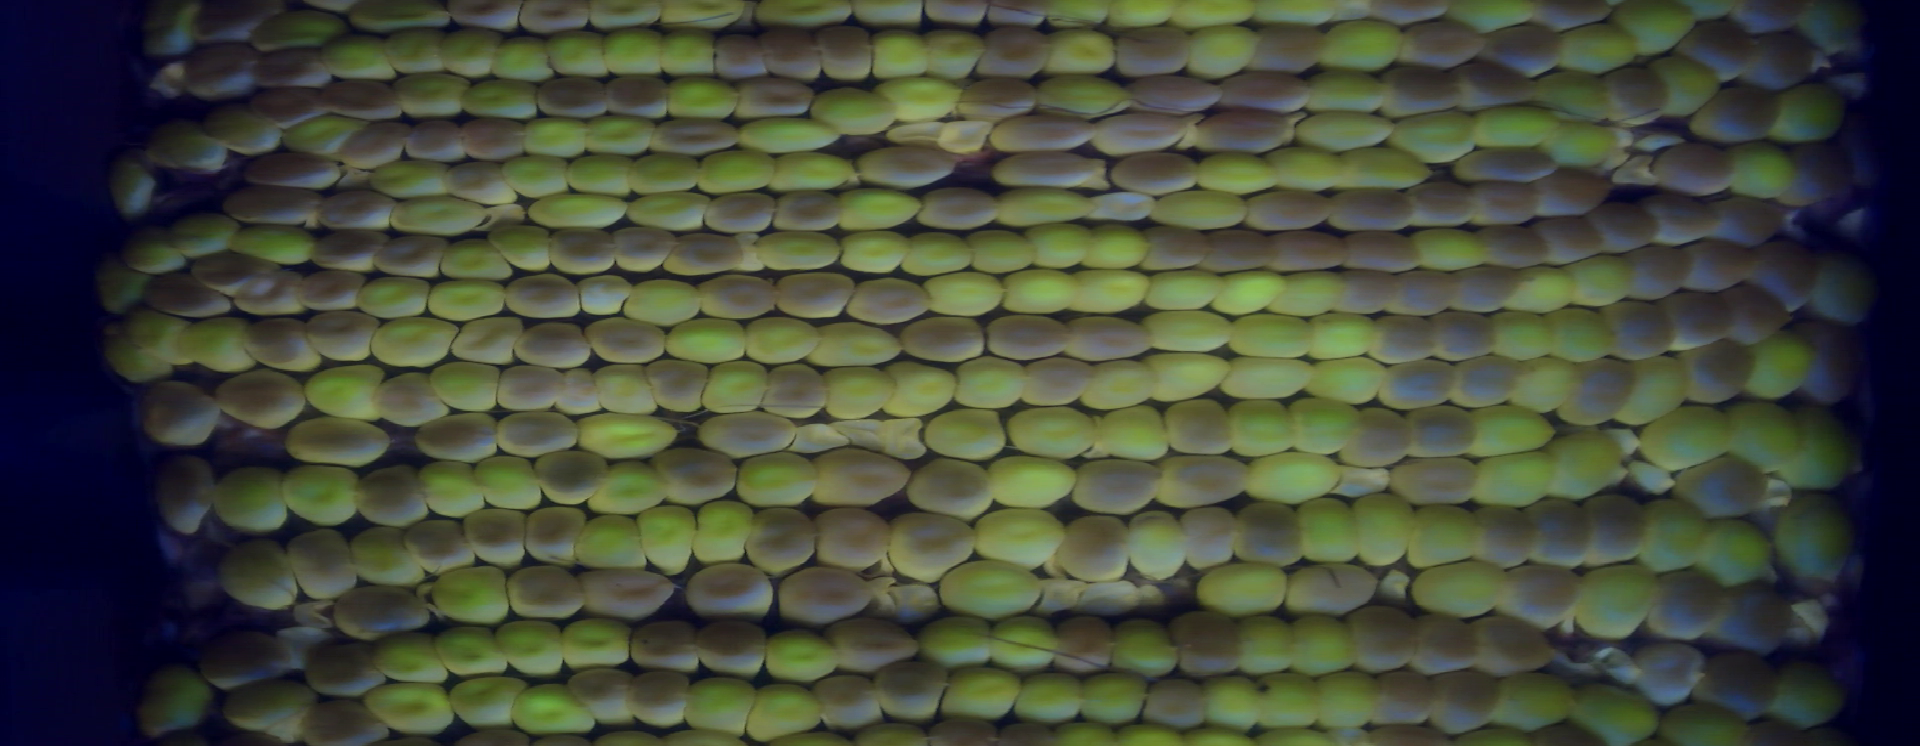fluorescent: (928, 551, 1051, 628), (1776, 491, 1858, 601), (965, 503, 1075, 579), (1570, 559, 1664, 646), (1635, 399, 1744, 473), (1719, 392, 1809, 481), (1406, 555, 1518, 624), (212, 534, 309, 612), (1778, 401, 1855, 499), (1629, 490, 1713, 579), (216, 671, 327, 739), (563, 405, 684, 467), (1456, 397, 1566, 464), (1562, 675, 1667, 746), (137, 661, 227, 744), (1190, 556, 1298, 624), (293, 356, 392, 429), (1771, 654, 1855, 737), (1395, 499, 1490, 572), (1490, 666, 1587, 739), (1000, 401, 1107, 465), (1540, 425, 1629, 503), (1611, 345, 1690, 432), (358, 677, 464, 741), (1240, 445, 1344, 510), (1700, 511, 1778, 597), (624, 499, 707, 579), (984, 179, 1102, 235), (1118, 503, 1195, 589), (1314, 12, 1413, 78), (1218, 306, 1327, 366), (1288, 490, 1369, 571), (1343, 488, 1422, 571), (1809, 249, 1884, 334), (359, 309, 463, 371), (276, 459, 369, 529), (429, 559, 518, 631), (1135, 345, 1238, 408), (1523, 62, 1621, 127), (983, 450, 1082, 513), (740, 679, 835, 745), (489, 611, 576, 684), (934, 659, 1027, 726), (569, 510, 659, 579), (193, 97, 291, 160), (115, 300, 200, 374), (211, 463, 298, 534), (241, 4, 355, 58), (1644, 48, 1725, 124), (1386, 107, 1484, 169), (1304, 663, 1389, 735), (343, 519, 429, 590), (1605, 1, 1711, 59), (811, 359, 900, 426), (917, 404, 1015, 465), (380, 189, 493, 241), (1717, 136, 1804, 205), (365, 625, 457, 690), (688, 492, 765, 570), (1545, 18, 1644, 78), (1741, 330, 1820, 405), (1029, 69, 1139, 122), (504, 680, 605, 739), (1183, 15, 1267, 85), (978, 609, 1064, 677), (1215, 353, 1321, 408), (1325, 141, 1436, 194), (1501, 352, 1588, 419), (584, 456, 672, 522), (1244, 664, 1327, 734), (803, 318, 909, 374), (1146, 183, 1259, 234), (735, 447, 825, 511), (1284, 611, 1365, 682), (444, 669, 536, 731), (1466, 100, 1570, 156), (1289, 104, 1401, 156), (1108, 614, 1190, 684), (1221, 393, 1303, 463), (1283, 391, 1365, 461), (1540, 304, 1629, 369), (726, 113, 849, 159), (276, 105, 369, 167), (911, 609, 1000, 673), (760, 621, 845, 688), (1135, 306, 1245, 358), (178, 311, 256, 383), (804, 82, 905, 138), (1771, 78, 1850, 149), (947, 349, 1033, 414), (1294, 62, 1392, 120), (613, 269, 705, 331), (678, 671, 763, 737), (1067, 356, 1161, 415), (93, 322, 175, 390), (553, 612, 642, 675), (1297, 305, 1385, 367), (220, 218, 324, 271), (1031, 23, 1124, 82), (1185, 146, 1284, 201), (429, 619, 514, 682), (469, 450, 550, 517), (1007, 668, 1093, 730), (1227, 609, 1302, 681), (917, 265, 1010, 322), (658, 314, 754, 369), (876, 358, 962, 419), (736, 311, 828, 369), (1496, 258, 1583, 318), (1196, 668, 1271, 737), (1075, 666, 1158, 729), (752, 224, 846, 279), (315, 29, 403, 88), (1653, 697, 1758, 746), (1095, 401, 1176, 464), (831, 183, 928, 235), (1063, 265, 1160, 317), (415, 454, 493, 519), (689, 145, 784, 198), (421, 355, 506, 415), (696, 355, 775, 419), (143, 119, 229, 178), (1138, 265, 1236, 316), (520, 189, 634, 233), (1303, 352, 1390, 409), (1536, 109, 1619, 169), (1561, 247, 1640, 311), (615, 187, 718, 235), (1484, 305, 1561, 369), (891, 227, 984, 279), (389, 66, 476, 122), (760, 147, 855, 198), (1258, 141, 1349, 194), (862, 26, 940, 87), (1016, 216, 1095, 277), (659, 69, 746, 124), (457, 71, 544, 126), (588, 359, 662, 423), (340, 1, 465, 39), (996, 263, 1081, 318), (1404, 224, 1496, 276), (1266, 263, 1352, 318), (135, 1, 208, 65), (872, 72, 965, 122), (493, 147, 574, 205), (482, 218, 560, 278), (1078, 217, 1155, 277), (621, 145, 707, 198), (954, 228, 1043, 279), (1210, 265, 1293, 320), (561, 145, 640, 202), (831, 225, 917, 278), (435, 22, 508, 83), (916, 24, 991, 85), (351, 269, 432, 325), (576, 108, 660, 160), (362, 156, 456, 203), (595, 23, 673, 80), (376, 24, 456, 80), (539, 24, 615, 82), (425, 273, 512, 323), (516, 110, 593, 167), (1793, 1, 1877, 53), (163, 209, 245, 262), (89, 252, 154, 317), (99, 149, 158, 220), (431, 236, 516, 285), (653, 24, 725, 81), (116, 225, 195, 277), (744, 1, 864, 34), (484, 33, 560, 85), (1439, 1, 1544, 37), (654, 1, 753, 36), (849, 1, 945, 33), (584, 1, 676, 34)
nonfluorescent: (569, 556, 686, 628), (131, 372, 233, 454), (804, 445, 920, 516), (1671, 450, 1776, 527), (1640, 563, 1736, 646), (206, 361, 313, 432), (771, 560, 880, 630), (1709, 576, 1798, 661), (1689, 77, 1787, 153), (193, 628, 300, 698), (820, 612, 931, 680), (1488, 561, 1592, 632), (1180, 103, 1308, 160), (1065, 450, 1168, 521), (282, 409, 398, 472), (1558, 348, 1641, 435), (1338, 597, 1428, 677), (883, 510, 984, 581), (143, 450, 222, 541), (1149, 447, 1259, 512), (1693, 643, 1784, 722), (647, 439, 747, 508), (901, 452, 1002, 522), (804, 502, 895, 579), (1625, 635, 1716, 712), (298, 632, 394, 704), (1464, 608, 1558, 682), (1385, 15, 1494, 78), (1161, 604, 1248, 684), (1793, 312, 1865, 408), (347, 461, 436, 538), (1228, 492, 1310, 576), (1382, 450, 1493, 511), (326, 579, 437, 639), (1280, 559, 1386, 621), (676, 559, 780, 622), (280, 522, 362, 601), (740, 500, 824, 577), (1598, 292, 1682, 369), (1403, 601, 1488, 679), (1575, 491, 1656, 571), (1742, 235, 1824, 314), (1054, 511, 1138, 588), (849, 140, 965, 195), (1774, 135, 1860, 209), (1471, 18, 1571, 82), (894, 309, 998, 370), (804, 668, 894, 739), (1463, 499, 1545, 576), (1103, 18, 1202, 82), (1716, 278, 1801, 352), (1156, 394, 1245, 464), (1678, 332, 1760, 408), (1425, 661, 1507, 737), (975, 309, 1082, 366), (869, 653, 955, 725), (984, 108, 1102, 160), (1445, 56, 1545, 118), (497, 559, 591, 624), (1239, 13, 1333, 78), (1371, 352, 1466, 416), (563, 659, 648, 731), (1735, 28, 1822, 98), (838, 271, 940, 330), (405, 405, 506, 465), (1373, 59, 1467, 122), (524, 443, 615, 510), (1656, 285, 1741, 355), (1338, 404, 1424, 474), (1618, 236, 1700, 309), (682, 615, 775, 679), (1635, 187, 1729, 250), (579, 311, 677, 371), (1671, 17, 1757, 86), (1056, 311, 1161, 366), (696, 407, 801, 462), (1395, 401, 1485, 464), (1518, 495, 1594, 571), (1316, 181, 1420, 236), (1647, 138, 1742, 198), (367, 367, 456, 432), (1120, 69, 1234, 119), (1087, 107, 1193, 160), (518, 499, 598, 570), (756, 359, 838, 428), (176, 39, 264, 103), (1675, 233, 1763, 296), (1233, 185, 1340, 238), (1107, 145, 1209, 200), (180, 246, 291, 296), (454, 502, 535, 571), (749, 20, 831, 87), (1449, 349, 1537, 412), (398, 510, 482, 575), (951, 69, 1044, 127), (1596, 60, 1674, 130), (970, 20, 1056, 83), (770, 268, 864, 326), (238, 314, 326, 375), (1584, 198, 1670, 261), (1209, 69, 1318, 118), (618, 612, 705, 674), (1449, 142, 1565, 187), (1425, 303, 1505, 369), (1174, 501, 1245, 575), (1134, 219, 1221, 279), (1044, 609, 1119, 679), (911, 183, 1008, 236), (239, 145, 348, 192), (1365, 664, 1442, 731), (241, 39, 342, 91), (294, 695, 394, 746), (989, 147, 1103, 192), (618, 661, 694, 729), (296, 304, 383, 363), (489, 408, 588, 459), (535, 219, 623, 277), (1359, 309, 1444, 369), (636, 352, 715, 415), (309, 75, 409, 125), (135, 269, 238, 318), (1333, 227, 1431, 278), (497, 267, 587, 323), (806, 18, 882, 85), (1528, 209, 1611, 269), (642, 111, 746, 159), (697, 186, 785, 243), (658, 227, 752, 279), (1195, 224, 1284, 279), (1704, 192, 1787, 252), (182, 1, 283, 50), (691, 271, 786, 322), (311, 185, 402, 239), (1458, 175, 1549, 229), (362, 227, 451, 282), (1469, 220, 1558, 274), (1258, 225, 1352, 276), (1010, 354, 1096, 409), (509, 318, 595, 374), (1398, 178, 1480, 235), (1446, 261, 1528, 318), (525, 70, 615, 122), (768, 183, 851, 239), (1385, 266, 1466, 323), (1138, 673, 1215, 733), (217, 183, 320, 227), (1533, 162, 1615, 217), (606, 222, 684, 279), (708, 22, 775, 87), (731, 72, 818, 122), (440, 156, 520, 209), (336, 116, 414, 171), (454, 109, 534, 163), (307, 225, 391, 277), (244, 82, 336, 129), (1329, 263, 1406, 318), (225, 269, 311, 318), (290, 265, 373, 315), (598, 69, 676, 121), (487, 364, 564, 416), (396, 113, 471, 164), (1723, 1, 1820, 40), (511, 1, 601, 42), (1520, 1, 1622, 34), (549, 364, 605, 416), (441, 1, 524, 37), (1358, 1, 1461, 29), (920, 712, 1003, 746), (975, 1, 1057, 31)
